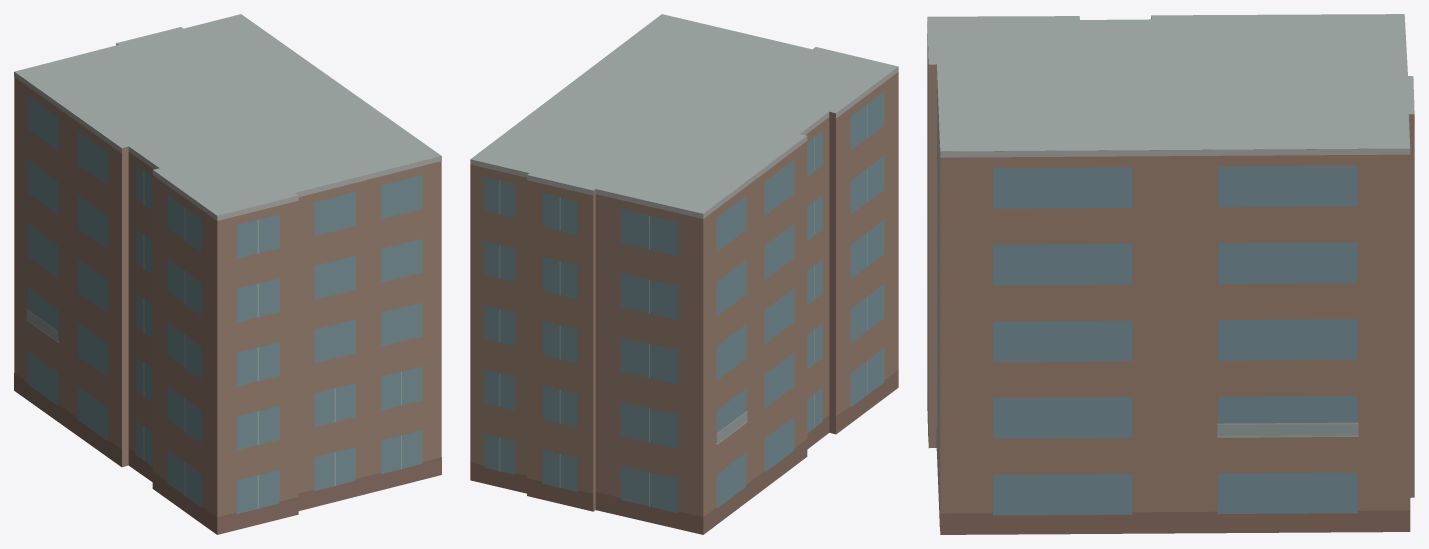
Rendered from survey-upis-32967440.glb.
3 views of the same model, side by side, from view 1: azimuth 30°, elevation 25°; view 2: azimuth 150°, elevation 25°; view 3: azimuth 270°, elevation 25° (orthographic). The views are drawn at different scales.
Parts seen in each view (by area): view 1: survey-upis-32967440.tmp; view 2: survey-upis-32967440.tmp; view 3: survey-upis-32967440.tmp.
Part boxes in pixels (x1,y1,x2,y2): survey-upis-32967440.tmp: (14, 14, 441, 534); survey-upis-32967440.tmp: (470, 14, 898, 534); survey-upis-32967440.tmp: (927, 14, 1414, 534).
Bounding box in the file's own units: 11.72 × 15.2 × 17.52.
